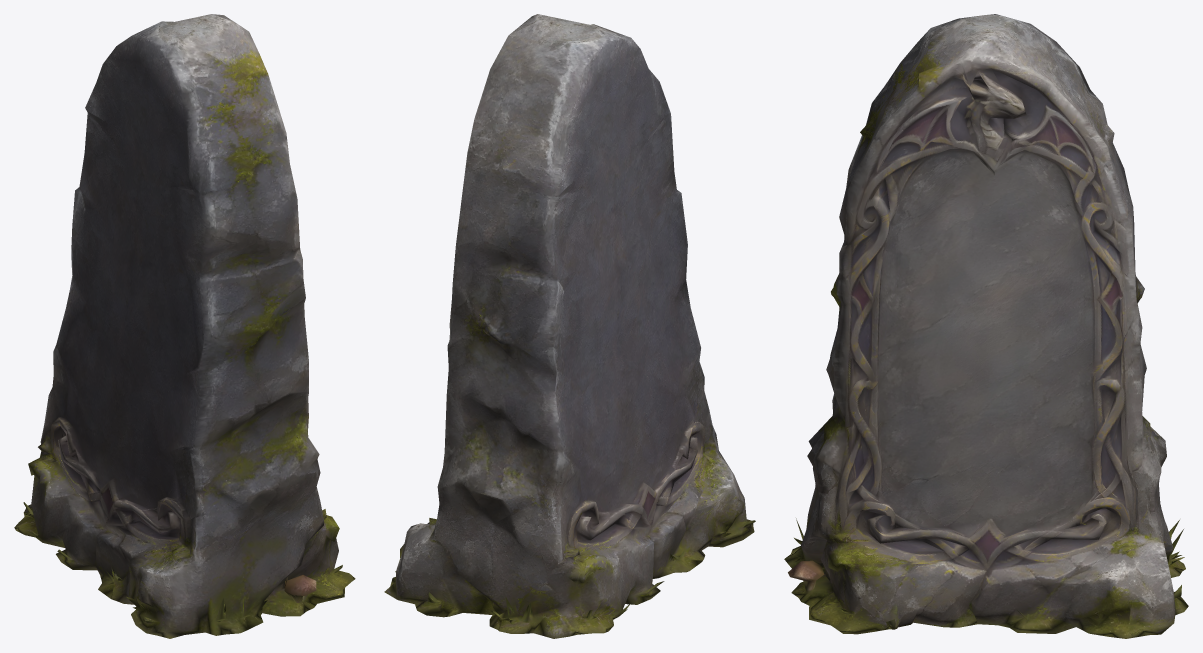
The model's file is camp_stele_source.glb.
3 views of the same model, side by side, from view 1: azimuth 30°, elevation 25°; view 2: azimuth 150°, elevation 25°; view 3: azimuth 270°, elevation 25° (orthographic). The views are drawn at different scales.
Visible parts, largest first — view 1: tripo_node_9d04cd47-a323-47fd-ae4a-8a7d836ff130; view 2: tripo_node_9d04cd47-a323-47fd-ae4a-8a7d836ff130; view 3: tripo_node_9d04cd47-a323-47fd-ae4a-8a7d836ff130.
Part boxes in pixels (<box>): tripo_node_9d04cd47-a323-47fd-ae4a-8a7d836ff130: <box>14,14,355,638</box>; tripo_node_9d04cd47-a323-47fd-ae4a-8a7d836ff130: <box>384,14,755,638</box>; tripo_node_9d04cd47-a323-47fd-ae4a-8a7d836ff130: <box>784,14,1188,638</box>.
Size of the model in its own units: 0.4367 by 0.9822 by 0.6414.
Materials: 1 (1 with a texture image).
